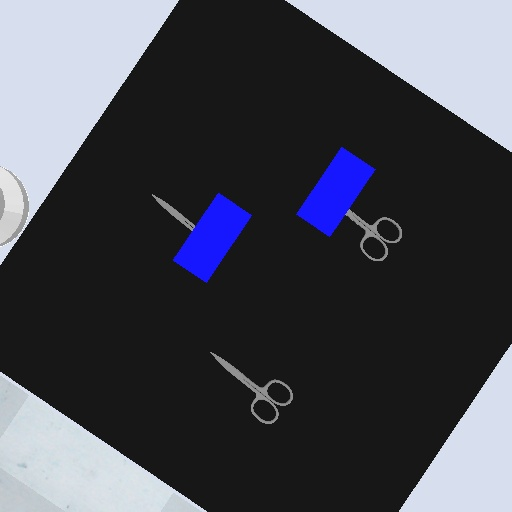tijera: (207, 347, 297, 427), (343, 204, 405, 265), (150, 191, 198, 232)
